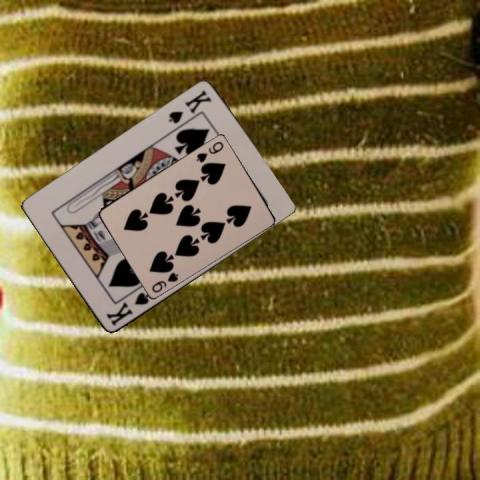9s: (194, 138, 226, 164), (149, 269, 180, 294)
Ks: (166, 87, 214, 126), (103, 290, 150, 328)
